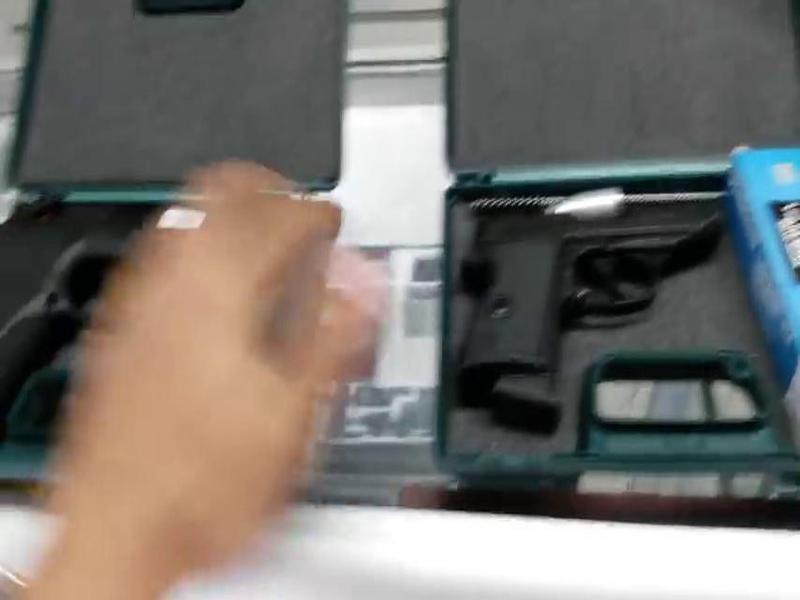Pistola: (452, 163, 761, 424)
